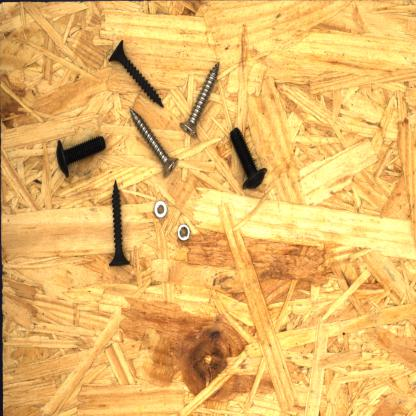screw: (104, 35, 167, 112), (127, 102, 180, 182), (176, 58, 223, 141), (226, 122, 271, 193), (51, 131, 111, 180), (104, 176, 134, 272)
